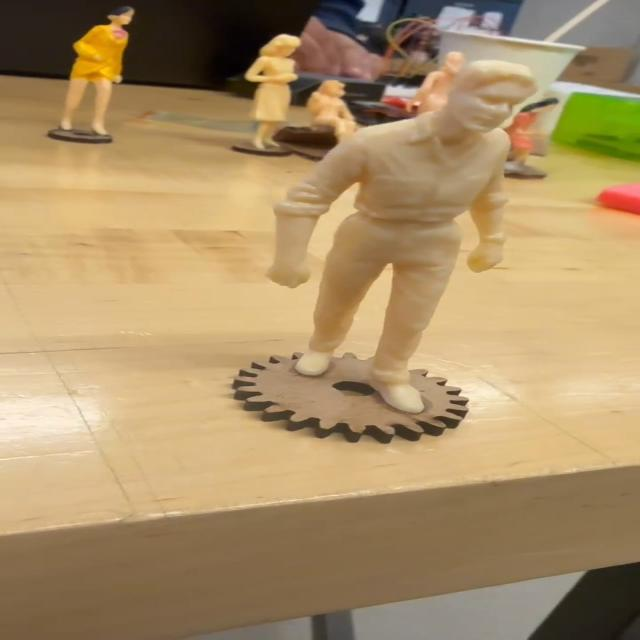Unauthorized: (235, 49, 544, 427)
